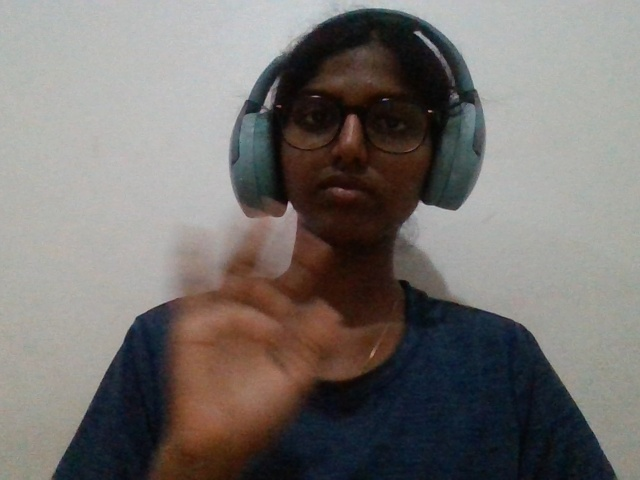Bye: (155, 201, 356, 480)
